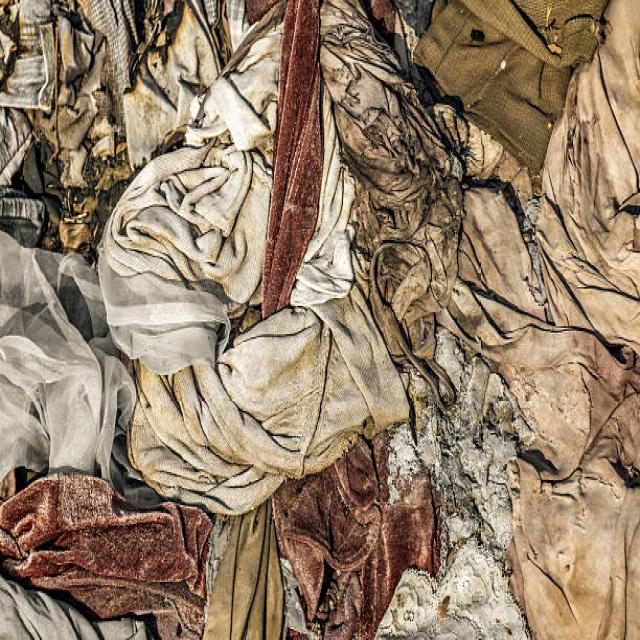trash: (9, 38, 622, 590)
